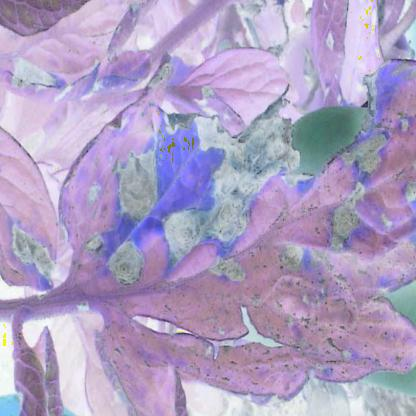Tomato Early blight leaf: (43, 92, 415, 407)
